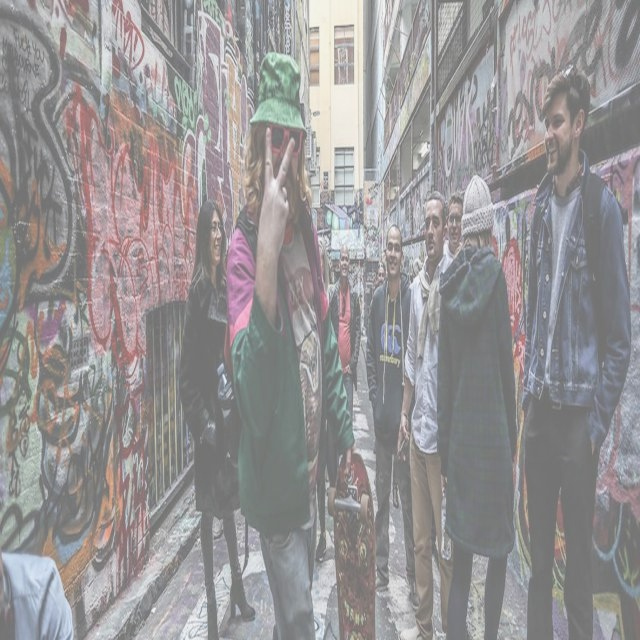pessoa: (224, 48, 357, 639), (517, 56, 632, 640), (436, 171, 520, 639), (175, 197, 256, 639), (397, 190, 455, 640), (365, 222, 422, 610), (314, 234, 339, 564), (0, 534, 79, 638), (334, 244, 362, 468), (442, 193, 464, 267), (389, 474, 402, 512), (376, 258, 386, 286)
